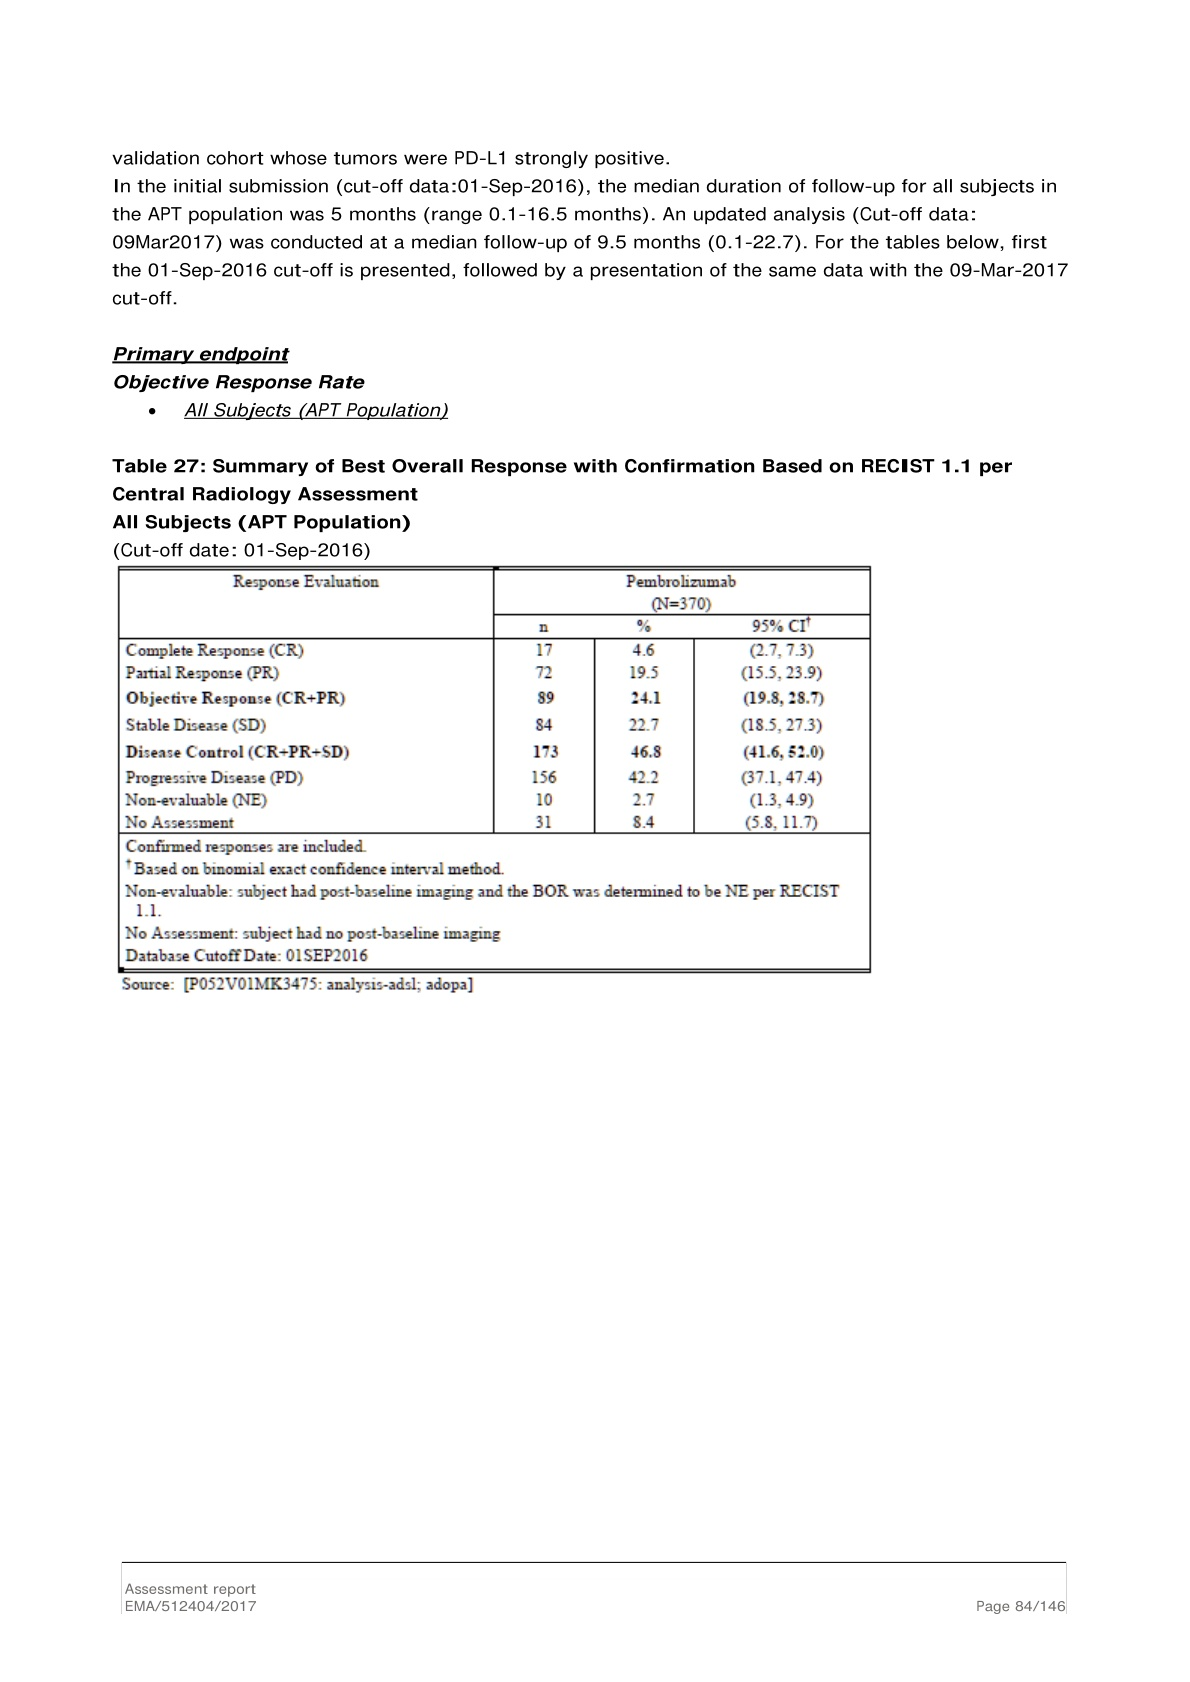partial_lined_merged_cells: (116, 565, 872, 972)
